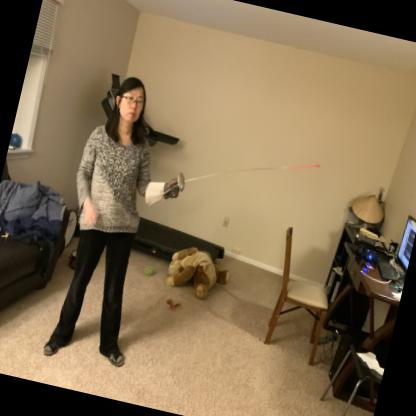foil-tip: (304, 156, 326, 180)
hand-and-foil: (140, 115, 334, 246)
